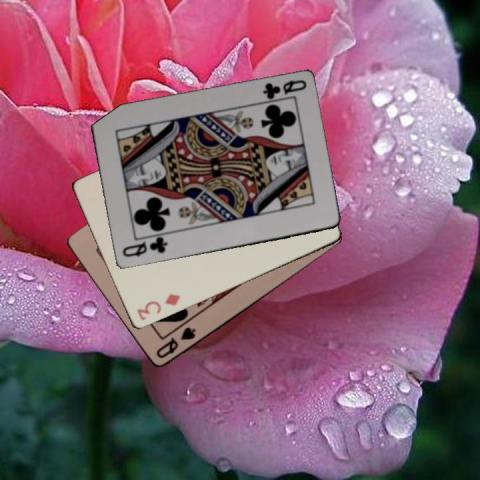3d: (134, 291, 182, 322)
Qc: (118, 234, 168, 258), (259, 77, 308, 101)
Qs: (153, 324, 197, 361)
